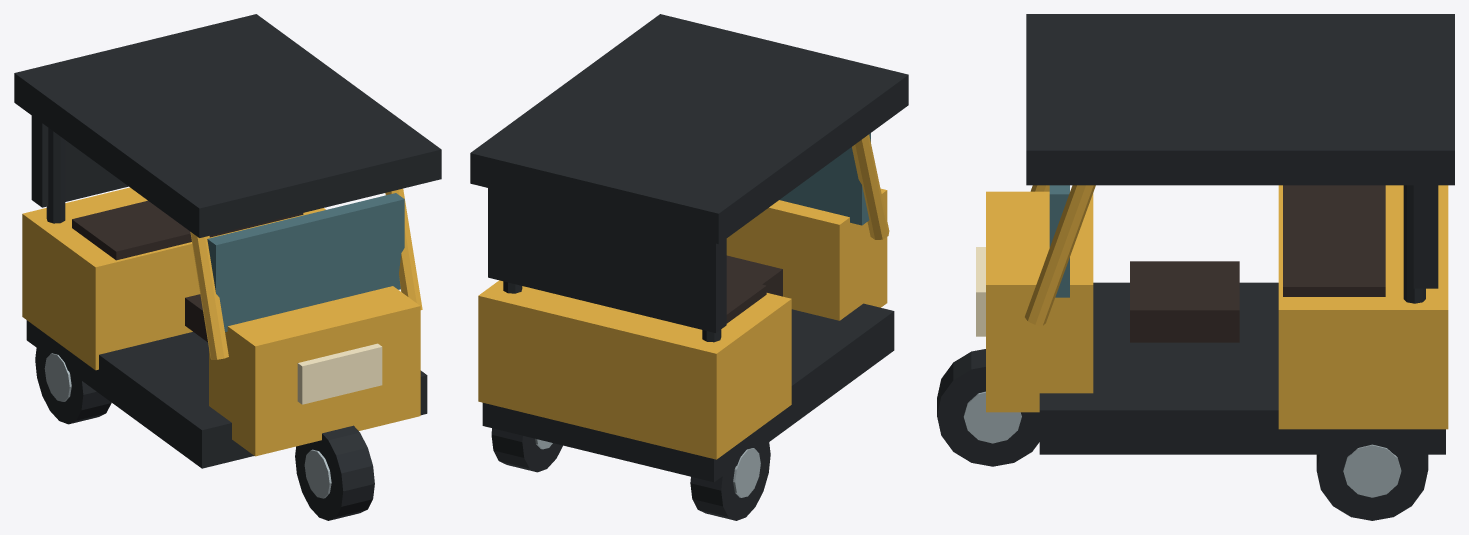
Rendered from Auto_Rickshaw.glb.
The picture shows the model from 3 angles, left to right: view 1: azimuth 30°, elevation 25°; view 2: azimuth 150°, elevation 25°; view 3: azimuth 270°, elevation 25°; orthographic projection. The views are drawn at different scales.
Visible parts, largest first — view 1: Auto_Rickshaw, Wheel_1, Wheel_2; view 2: Auto_Rickshaw, Wheel_2, Wheel_3; view 3: Auto_Rickshaw, Wheel_1, Wheel_3.
Part boxes in pixels (bbox=[...]): Auto_Rickshaw: bbox=[14, 14, 441, 468]; Wheel_1: bbox=[295, 425, 374, 520]; Wheel_2: bbox=[35, 348, 111, 424]; Auto_Rickshaw: bbox=[470, 14, 908, 482]; Wheel_2: bbox=[690, 442, 770, 520]; Wheel_3: bbox=[491, 428, 562, 472]; Auto_Rickshaw: bbox=[976, 14, 1454, 454]; Wheel_1: bbox=[937, 349, 1039, 466]; Wheel_3: bbox=[1316, 444, 1428, 520].
Bounding box in the file's own units: 1.45 × 1.86 × 2.32.
